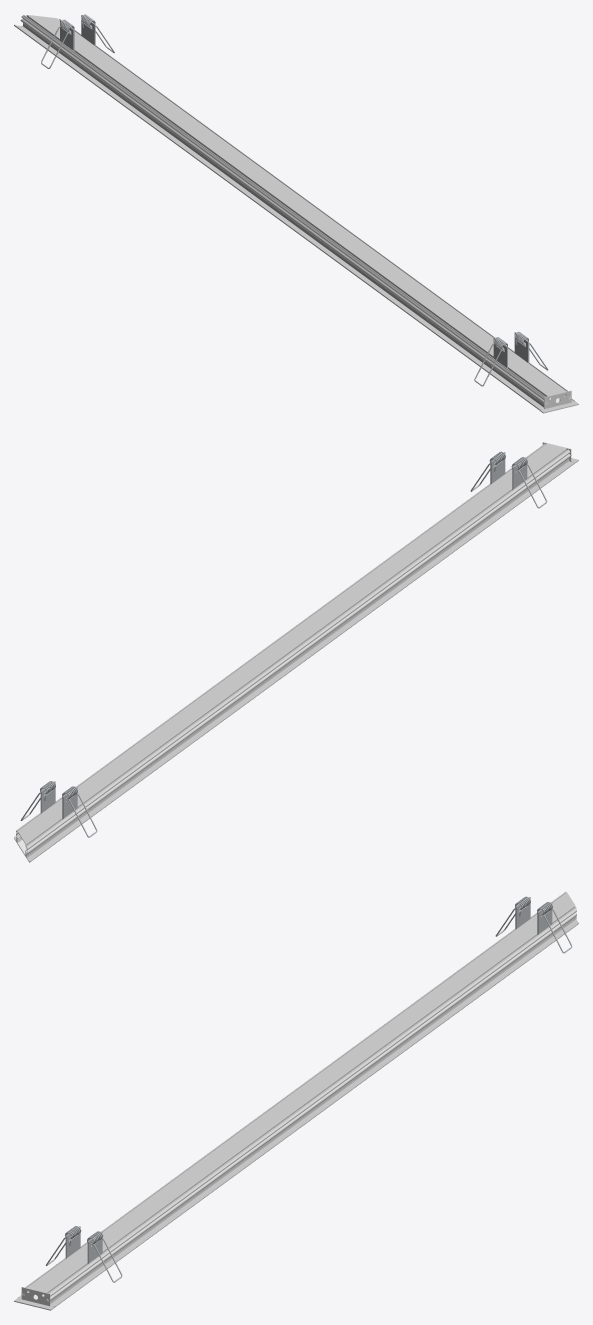
The model's file is Fit25SlimEmbutido-corte-45.glb.
The picture shows the model from 3 angles, top to bottom: view 1: azimuth 30°, elevation 25°; view 2: azimuth 150°, elevation 25°; view 3: azimuth 330°, elevation 25°; orthographic projection. The views are drawn at different scales.
Parts seen in each view (by area): view 1: 3DGeom-1; view 2: 3DGeom-1; view 3: 3DGeom-1, 3DGeom-3.
Part boxes in pixels (box(x1,y1,x2,y2)): 3DGeom-1: box(14, 15, 574, 410); 3DGeom-1: box(14, 443, 575, 862); 3DGeom-1: box(18, 891, 578, 1307); 3DGeom-3: box(14, 1287, 54, 1310).
Bounding box in the file's own units: 0.0731 × 0.0405 × 1.01.
Materials: 3 (1 with a texture image).
